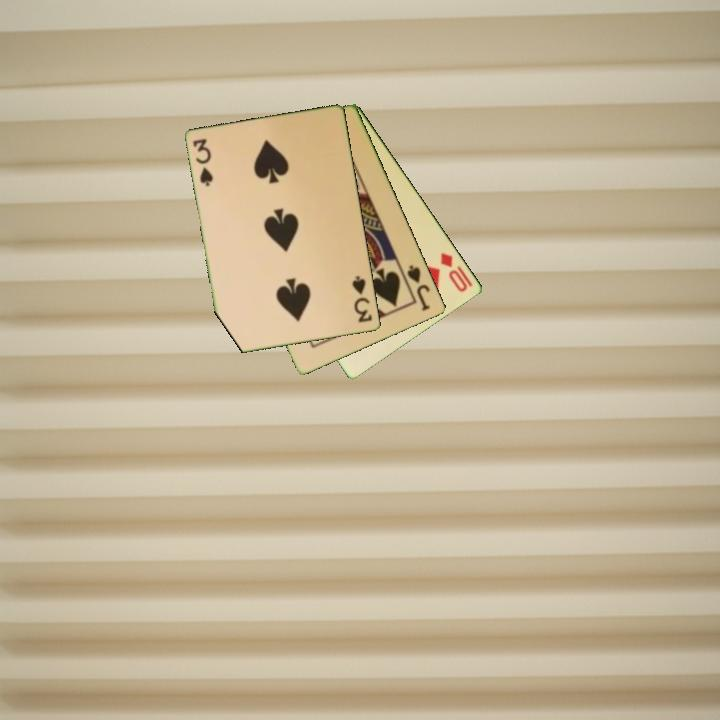10d: (437, 249, 476, 295)
3s: (349, 272, 375, 326), (190, 135, 216, 189)
Js: (404, 261, 433, 314)
